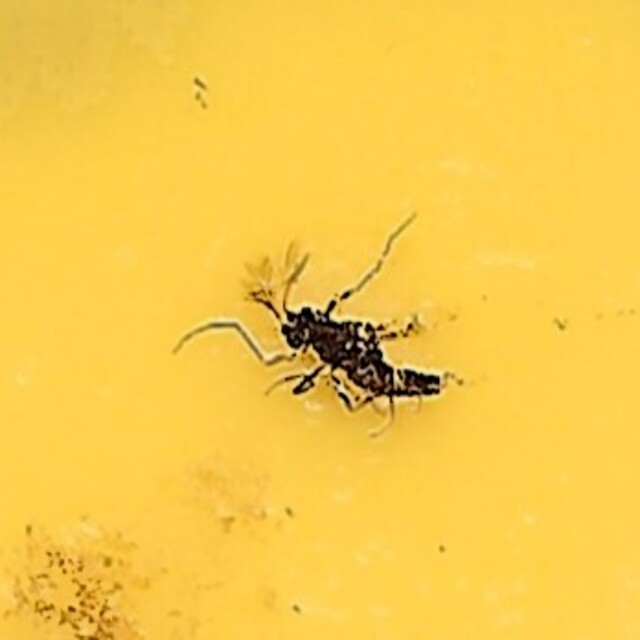Nematocera: (184, 213, 456, 427)
